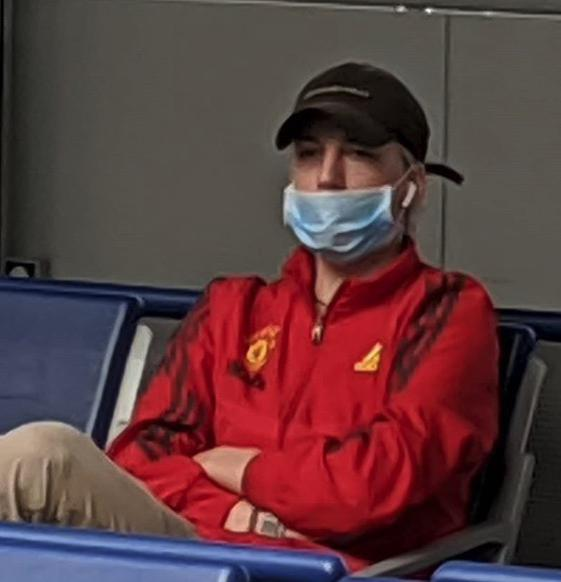mask_weared_incorrect: (278, 146, 400, 244)
